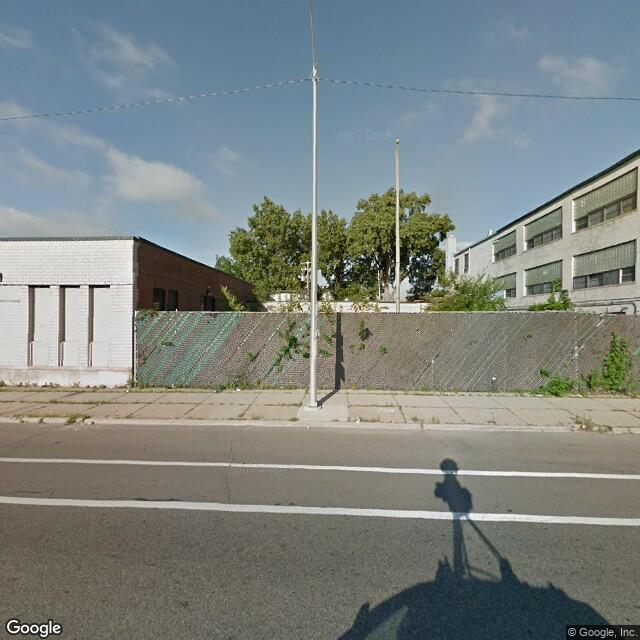litter: (231, 382, 246, 393), (120, 386, 133, 395), (578, 423, 590, 431), (353, 415, 363, 423)
